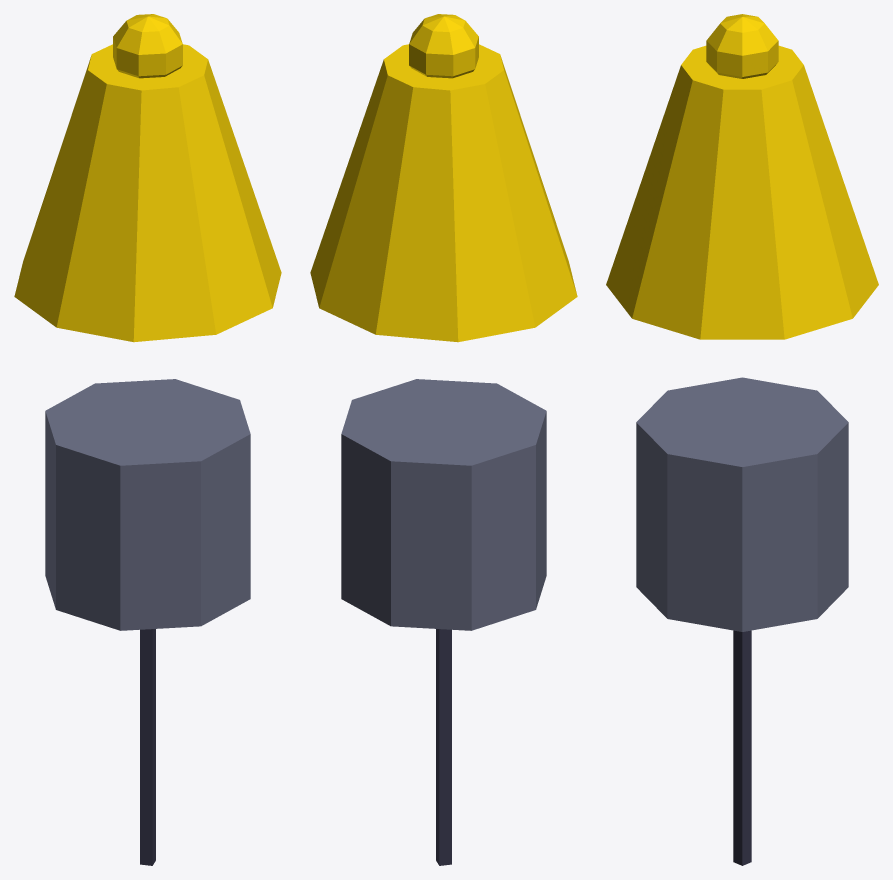
Rendered from bell.glb.
3 renders of one model, left to right at view 1: azimuth 30°, elevation 25°; view 2: azimuth 150°, elevation 25°; view 3: azimuth 270°, elevation 25°, orthographic.
Visible parts, largest first — view 1: p_cone.032, p_cyl.036, p_sph.299, p_cyl.037; view 2: p_cone.032, p_cyl.036, p_sph.299, p_cyl.037; view 3: p_cone.032, p_cyl.036, p_cyl.037, p_sph.299.
Part boxes in pixels (x1,y1,x2,y2): p_cone.032: (14, 44, 281, 342); p_cyl.036: (45, 379, 250, 630); p_sph.299: (113, 14, 182, 78); p_cyl.037: (140, 629, 155, 865); p_cone.032: (310, 44, 577, 342); p_cyl.036: (341, 379, 546, 630); p_sph.299: (409, 14, 478, 78); p_cyl.037: (436, 629, 451, 865); p_cone.032: (606, 45, 878, 339); p_cyl.036: (636, 377, 848, 631); p_cyl.037: (733, 630, 751, 865); p_sph.299: (706, 14, 778, 78).
Bounding box in the file's own units: 0.856 × 3.08 × 0.9.
